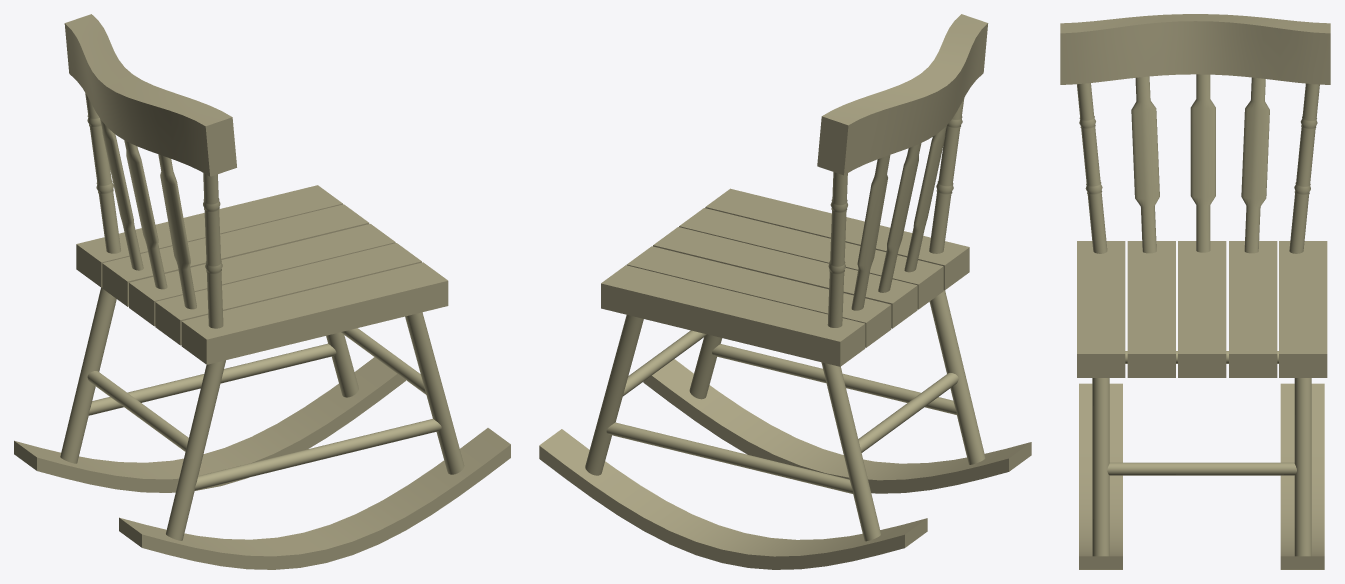
The model's file is Chair.fbx.
3 views of the same model, side by side, from view 1: azimuth 30°, elevation 25°; view 2: azimuth 150°, elevation 25°; view 3: azimuth 270°, elevation 25° (orthographic). The views are drawn at different scales.
Parts seen in each view (by area): view 1: pCube9; view 2: pCube9; view 3: pCube9.
Boxes of the visible parts, left/top/right/bottom form: pCube9: left=14, top=14, right=510, bottom=569; pCube9: left=539, top=14, right=1031, bottom=569; pCube9: left=1060, top=14, right=1330, bottom=569.
Size of the model in its own units: 3.88 by 4.81 by 2.57.
